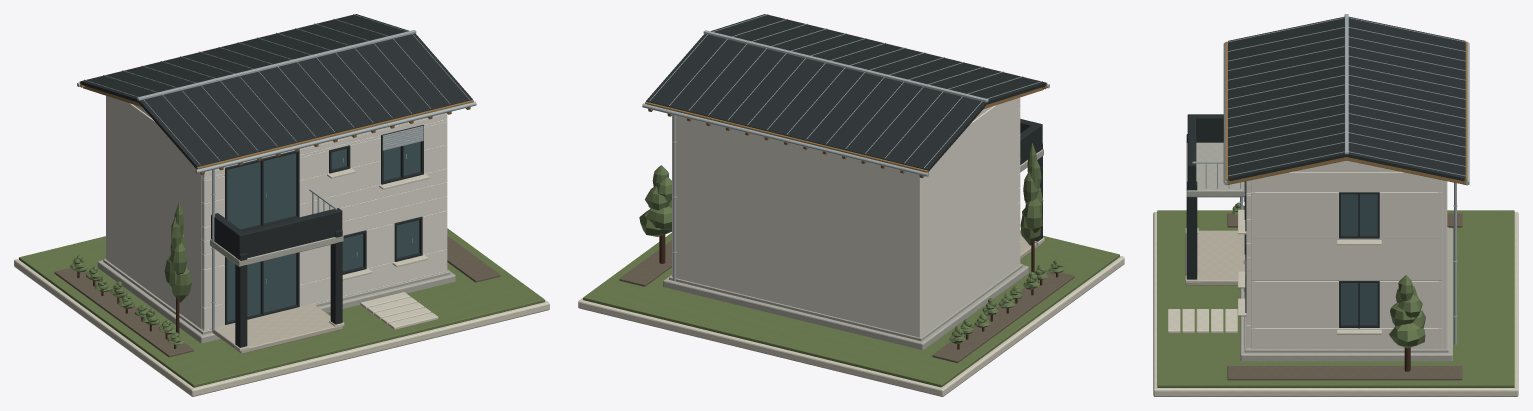
File: villetta-BgcN1f6K.glb
The picture shows the model from 3 angles, left to right: view 1: azimuth 30°, elevation 25°; view 2: azimuth 150°, elevation 25°; view 3: azimuth 270°, elevation 25°; orthographic projection. The views are drawn at different scales.
Parts seen in each view (by area): view 1: phase_envelope__graphite, phase_envelope__plaster, phase_site__grass, phase_finish__glass, phase_details__metal, phase_site__limestone, phase_finish__soil, phase_finish__graphite, phase_foundation__paving, phase_foundation__concrete, phase_details__foliage, phase_finish__limestone (+4 smaller); view 2: phase_envelope__plaster, phase_envelope__graphite, phase_site__grass, phase_details__metal, phase_site__limestone, phase_foundation__concrete, phase_details__foliage, phase_finish__soil, phase_finish__oak, phase_structure__oak, phase_details__darkwood; view 3: phase_envelope__graphite, phase_envelope__plaster, phase_site__grass, phase_details__metal, phase_site__limestone, phase_finish__soil, phase_foundation__concrete, phase_finish__glass, phase_finish__limestone, phase_foundation__paving, phase_details__foliage, phase_structure__concrete (+4 smaller).
Part boxes in pixels (x1,y1,x2,y2): phase_envelope__graphite: (80, 14, 472, 259); phase_envelope__plaster: (106, 96, 447, 330); phase_site__grass: (19, 228, 544, 387); phase_finish__glass: (227, 141, 420, 321); phase_details__metal: (77, 14, 476, 330); phase_site__limestone: (14, 258, 549, 396); phase_finish__soil: (54, 236, 500, 357); phase_finish__graphite: (225, 125, 423, 324); phase_foundation__paving: (211, 303, 342, 353); phase_foundation__concrete: (97, 258, 455, 343); phase_details__foliage: (70, 203, 192, 345); phase_finish__limestone: (233, 168, 438, 351); phase_envelope__plaster: (672, 97, 1020, 337); phase_envelope__graphite: (646, 14, 1046, 171); phase_site__grass: (583, 230, 1119, 387); phase_details__metal: (642, 14, 1049, 280); phase_site__limestone: (578, 256, 1124, 396); phase_foundation__concrete: (663, 263, 1028, 349); phase_details__foliage: (639, 143, 1064, 343); phase_finish__soil: (619, 240, 1074, 362); phase_finish__oak: (645, 14, 1047, 172); phase_structure__oak: (648, 87, 1043, 178); phase_details__darkwood: (659, 234, 1058, 349); phase_envelope__graphite: (1187, 16, 1465, 190); phase_envelope__plaster: (1246, 160, 1447, 349); phase_site__grass: (1157, 210, 1514, 387); phase_details__metal: (1223, 14, 1469, 344); phase_site__limestone: (1153, 212, 1518, 396); phase_finish__soil: (1227, 213, 1462, 380); phase_foundation__concrete: (1240, 227, 1452, 361); phase_finish__glass: (1341, 194, 1377, 324); phase_finish__limestone: (1168, 209, 1381, 334); phase_foundation__paving: (1185, 230, 1245, 285); phase_details__foliage: (1231, 202, 1425, 348); phase_structure__concrete: (1186, 142, 1244, 197).
Size of the model in its own units: 11.8 by 6.95 by 10.2.
Materials: 12 (7 with a texture image).
